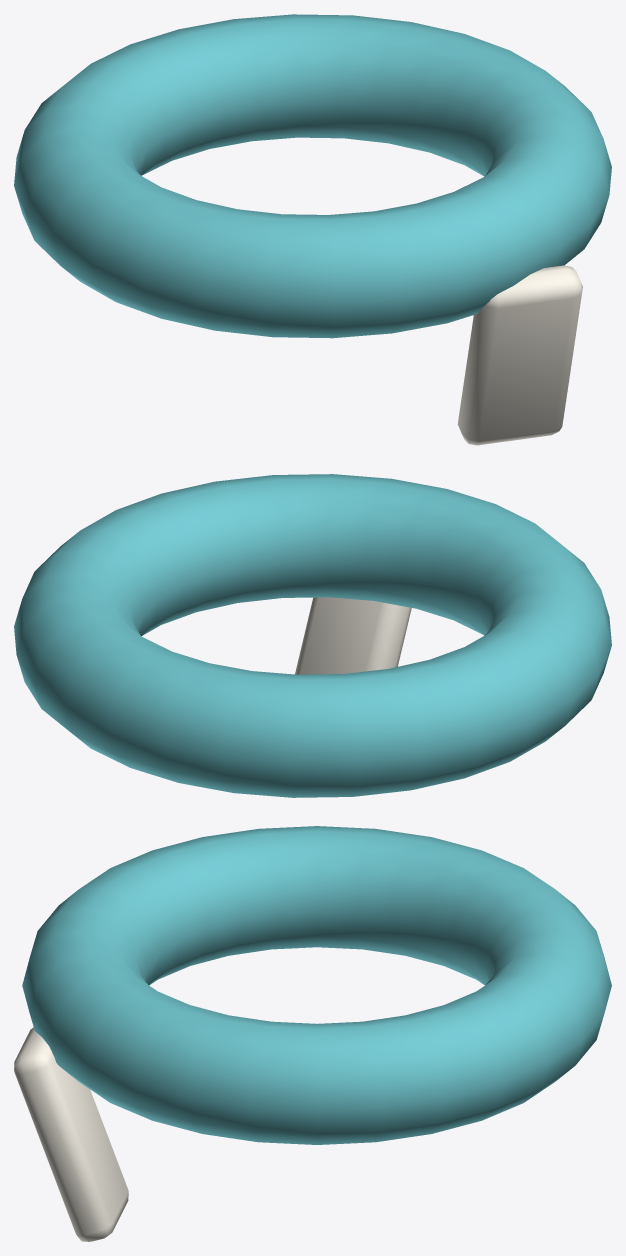
File: costume_scarf.glb
3 renders of one model, top to bottom at view 1: azimuth 30°, elevation 25°; view 2: azimuth 150°, elevation 25°; view 3: azimuth 270°, elevation 25°, orthographic.
Parts seen in each view (by area): view 1: costume_scarf_ring, costume_scarf_tail; view 2: costume_scarf_ring, costume_scarf_tail; view 3: costume_scarf_ring, costume_scarf_tail.
Part boxes in pixels (box(x1,y1,x2,y2)): costume_scarf_ring: box(14, 14, 611, 338); costume_scarf_tail: box(457, 265, 582, 445); costume_scarf_ring: box(14, 474, 611, 797); costume_scarf_tail: box(295, 597, 411, 674); costume_scarf_ring: box(22, 826, 611, 1144); costume_scarf_tail: box(14, 1027, 128, 1241).
Bounding box in the file's own units: 0.0504 × 0.0238 × 0.0511.
